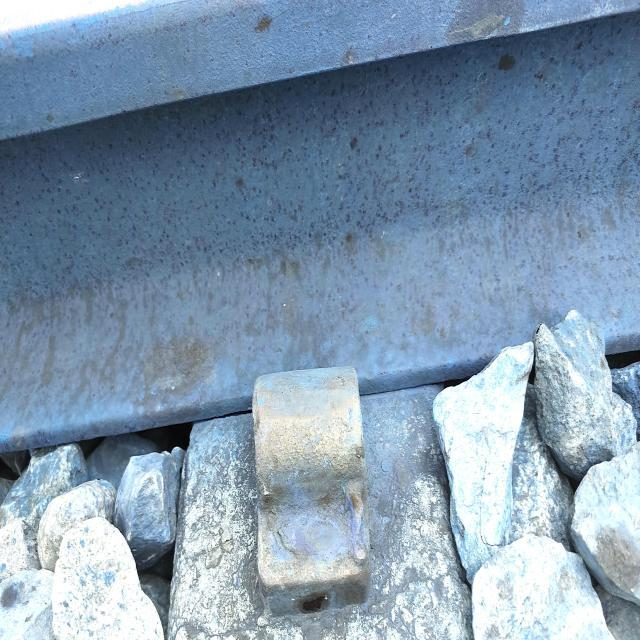Missing Fastener: (223, 350, 409, 640)
